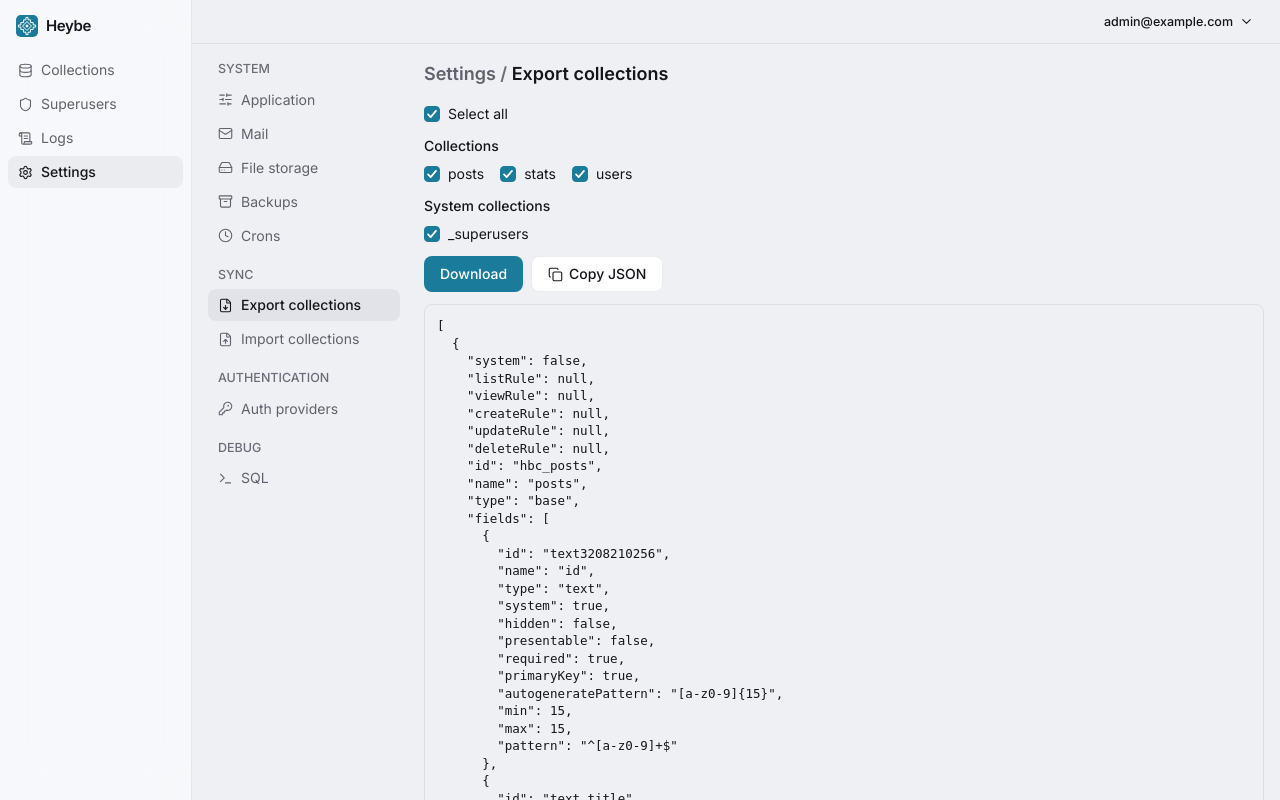
export selection narrows the preview and Select all toggles
The width and height of the screenshot is (1280, 800).
Check: the checkbox labelled "posts" is shown, box x1=424 y1=166 x2=440 y2=182
Click the checkbox labelled "Select all" at (432, 114), box x1=424 y1=106 x2=440 y2=122
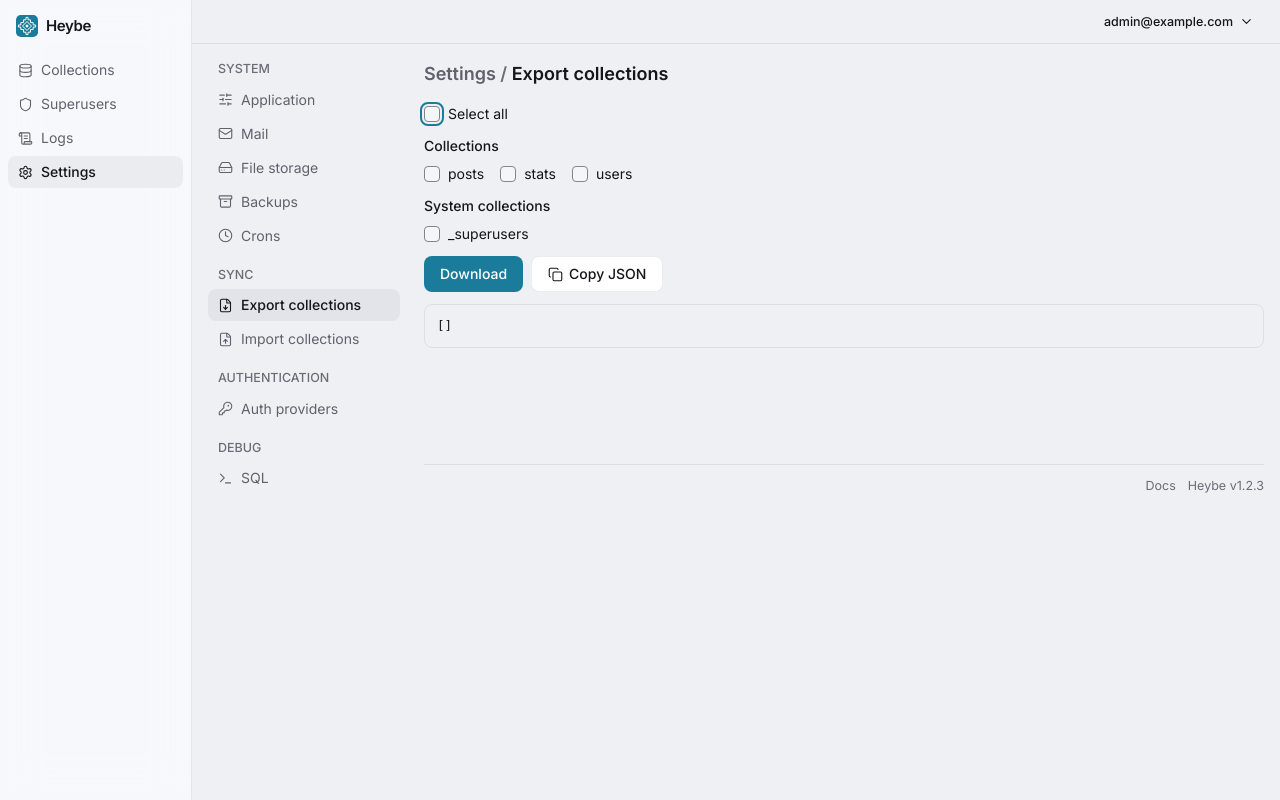
Check: the text named "Export preview" reads "[]", box x1=437 y1=318 x2=452 y2=333
Click the checkbox labelled "posts" at (432, 174), box x1=424 y1=166 x2=440 y2=182
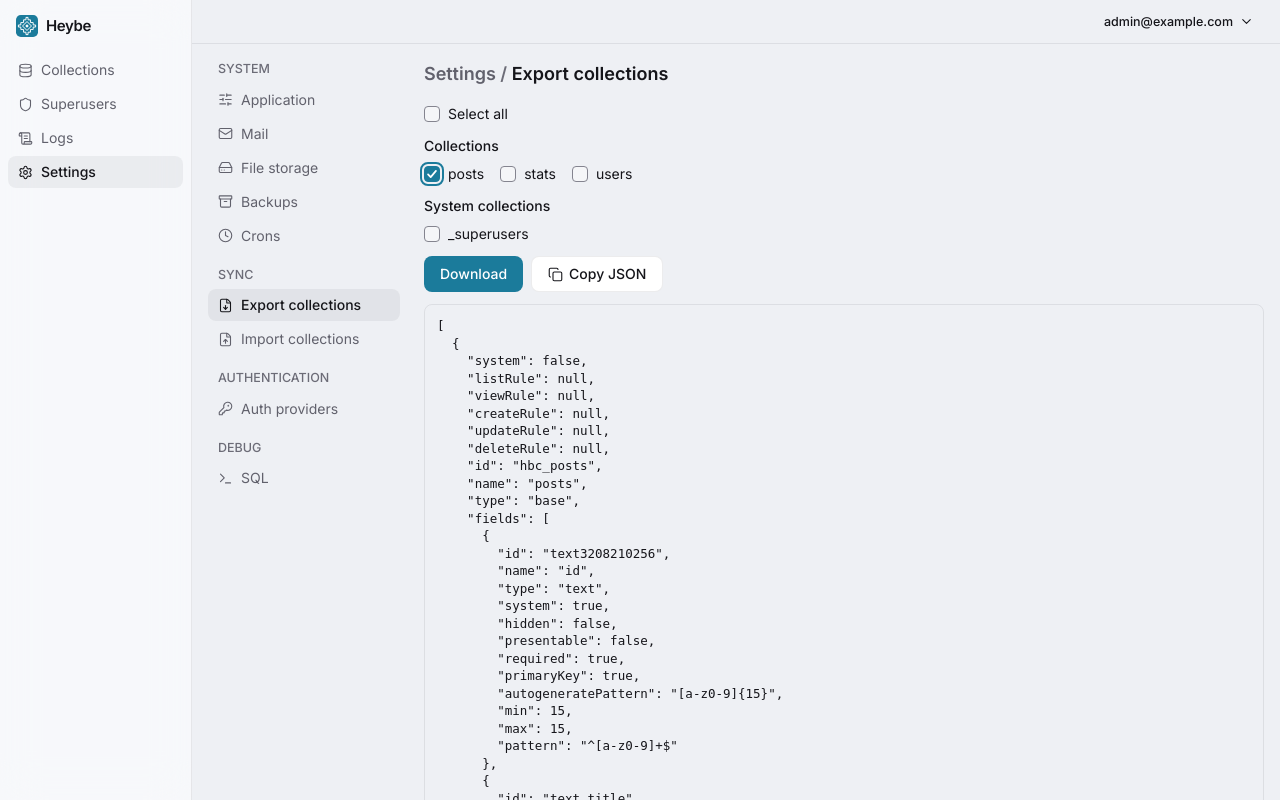
Click the checkbox labelled "Select all" at (432, 114), box x1=424 y1=106 x2=440 y2=122
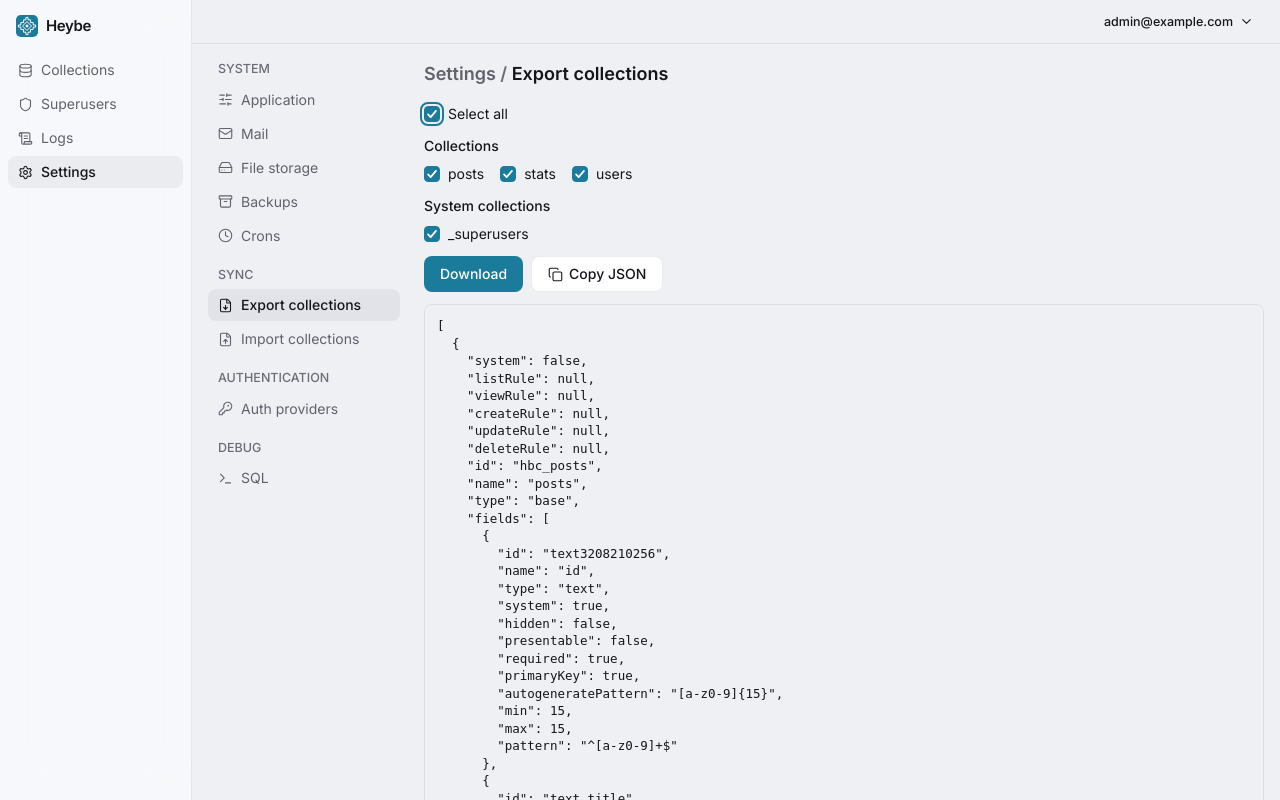
Check: the checkbox labelled "users" is checked, box x1=572 y1=166 x2=588 y2=182
